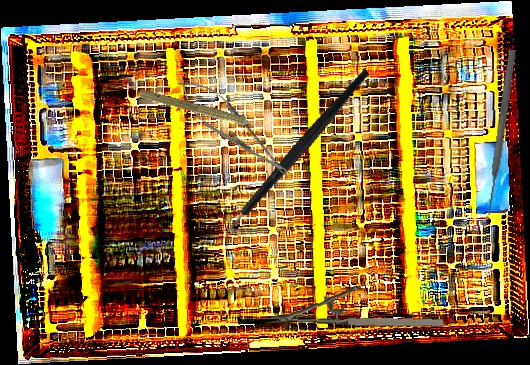Chopper: (181, 66, 412, 252)
Handpiece: (138, 87, 268, 136)
Needle Holder: (167, 67, 302, 191), (267, 280, 445, 333)
Pusher: (483, 49, 518, 216)
